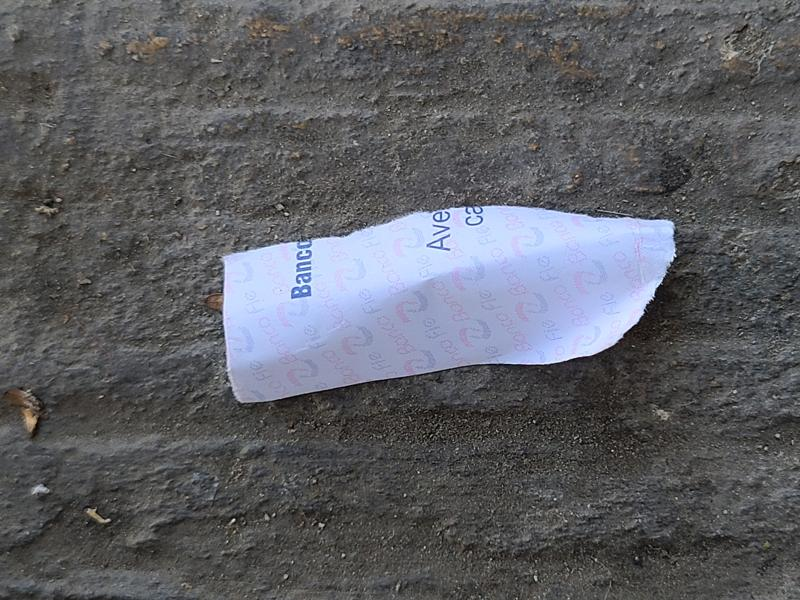papel: (222, 206, 677, 406)
